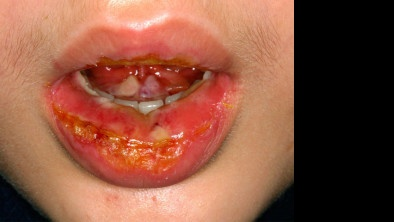SJS-TEN: (28, 0, 269, 222)
